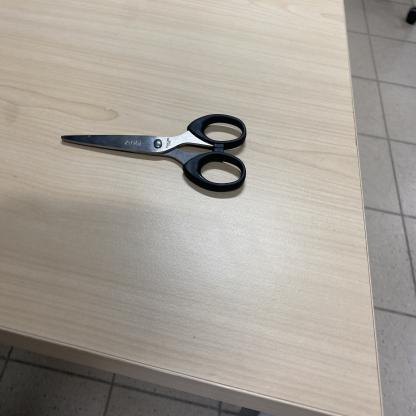scissors: (60, 113, 246, 194)
